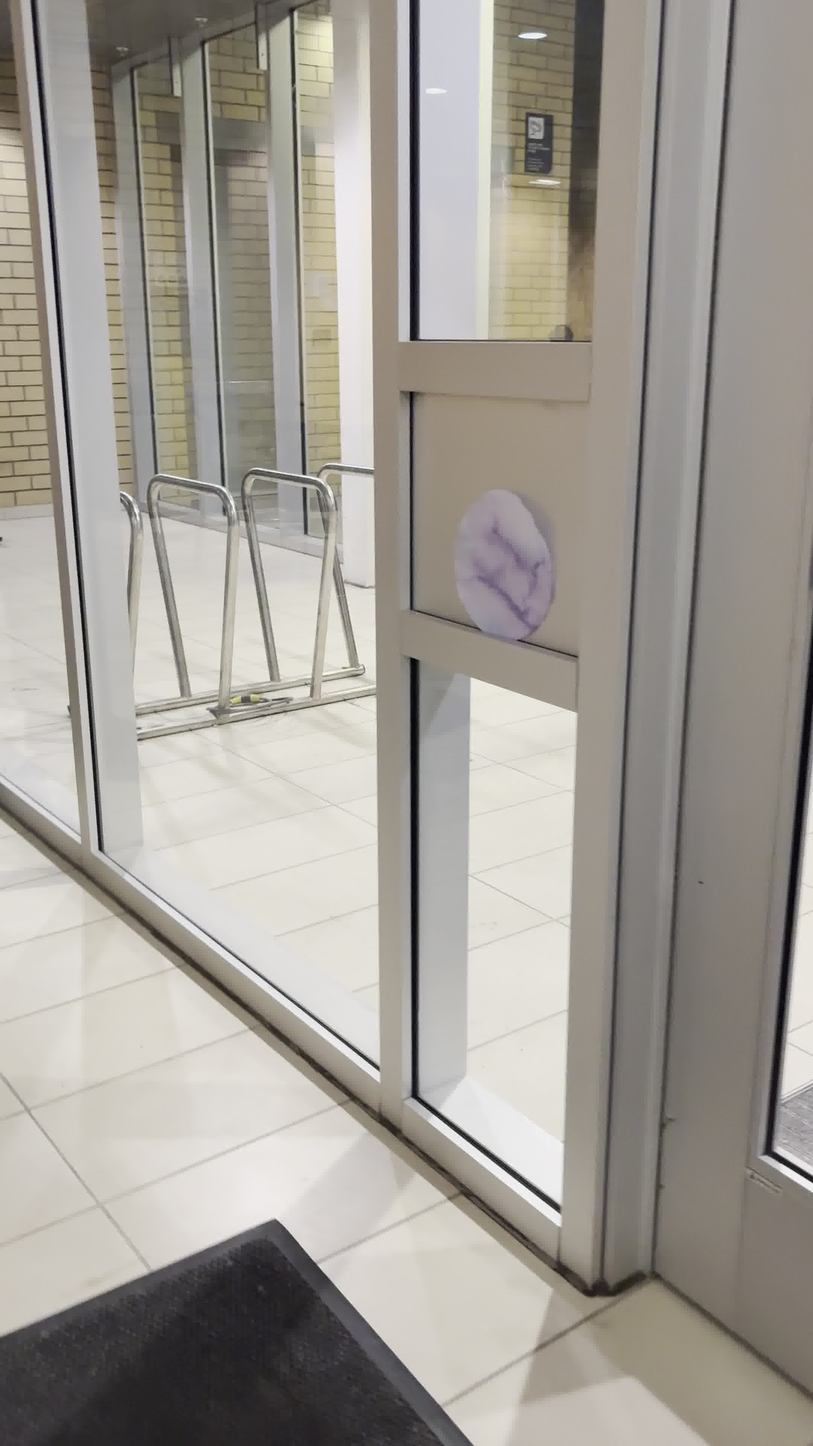Target: (451, 482, 556, 640)
